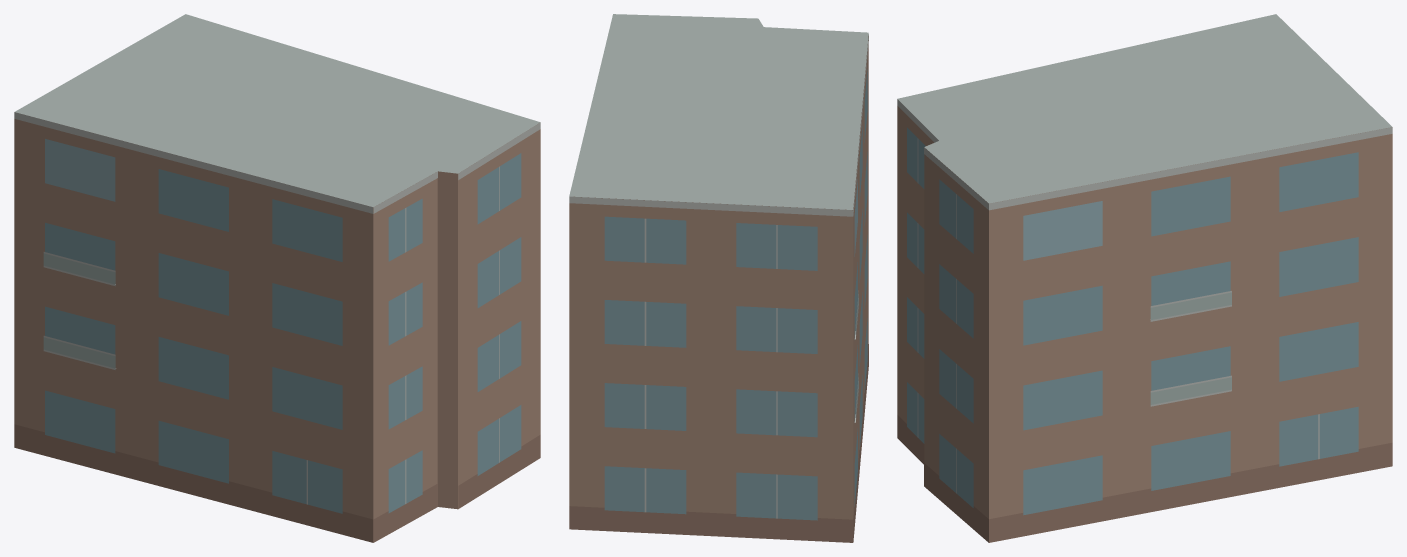
The model's file is survey-upis-32611767.glb.
3 renders of one model, left to right at view 1: azimuth 30°, elevation 25°; view 2: azimuth 150°, elevation 25°; view 3: azimuth 270°, elevation 25°, orthographic.
Visible parts, largest first — view 1: survey-upis-32611767.tmp; view 2: survey-upis-32611767.tmp; view 3: survey-upis-32611767.tmp.
Part boxes in pixels (x1,y1,x2,y2): survey-upis-32611767.tmp: [14, 14, 540, 542]; survey-upis-32611767.tmp: [569, 14, 868, 542]; survey-upis-32611767.tmp: [897, 14, 1392, 542].
Size of the model in its own units: 14.58 by 12.16 by 16.1.
